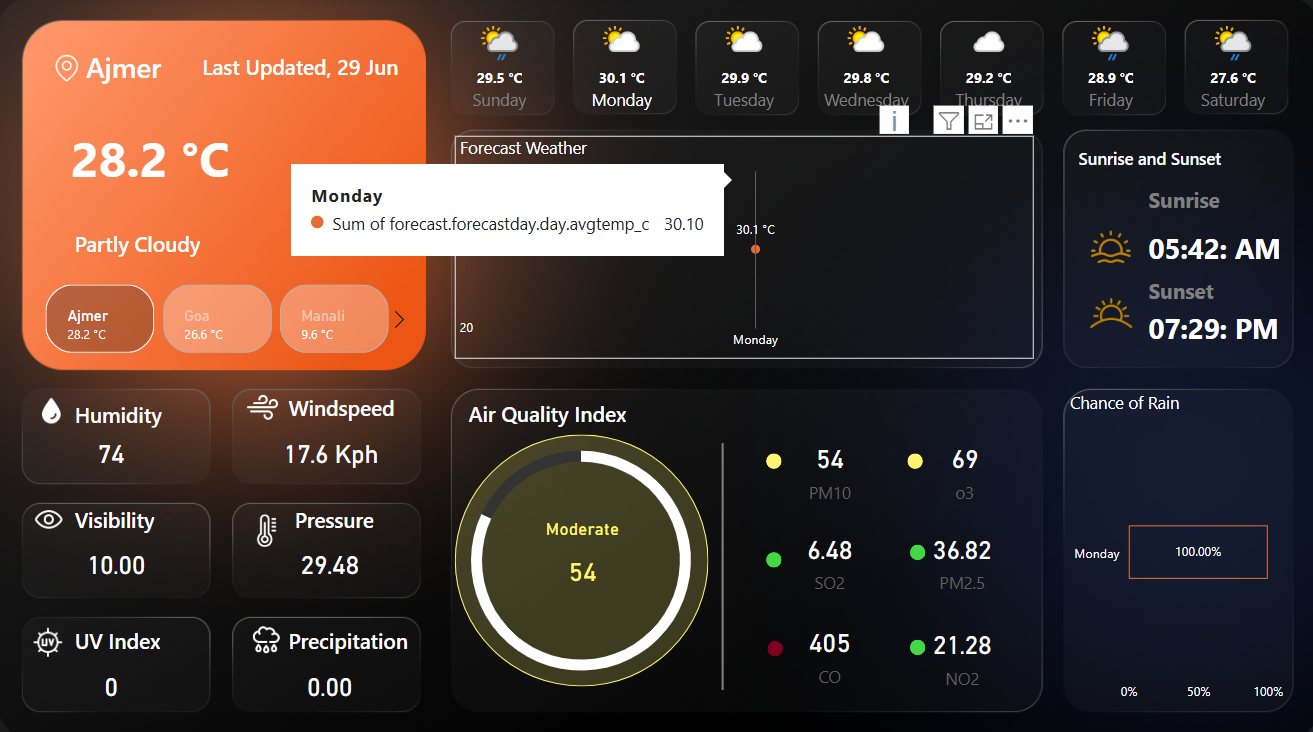

This screenshot's page, from the dashboard's own definition file:
{"tool":"powerbi","page":{"name":"Page 1","canvas":[1280,720],"ordinal":0},"visuals":[{"type":"advancedSlicerVisual","fields":{"Values":["Location.location.name"]},"box":[23.3,273.1,381.5,76.8],"z":0},{"type":"shape","box":[72.8,107.1,164.8,94.8],"z":1000},{"type":"shape","box":[75.6,217,232.2,41.2],"z":2000},{"type":"shape","box":[86.6,41.9,100.5,48.9],"z":3000},{"type":"image","box":[50.8,46.7,35.7,44],"z":4000},{"type":"shape","box":[199,42.5,205.8,48],"z":5000},{"type":"image","box":[24.7,483.9,53.8,40.7],"z":6000},{"type":"shape","box":[75.6,483.9,100.3,40.7],"z":7000},{"type":"image","box":[29.1,380.7,49.4,36.3],"z":8000},{"type":"shape","box":[75.6,380.7,100.3,42.1],"z":9000},{"type":"image","box":[231.1,374.9,50.9,42.1],"z":10000},{"type":"shape","box":[281.9,374.9,123.5,42.1],"z":11000},{"type":"image","box":[232.5,494.1,56.7,40.7],"z":12000},{"type":"shape","box":[287.7,483.9,100.3,40.7],"z":13000},{"type":"image","box":[21.8,603.1,56.7,39.2],"z":14000},{"type":"shape","box":[75.6,600.2,100.3,42.1],"z":15000},{"type":"image","box":[232.5,600.2,55.2,42.1],"z":16000},{"type":"shape","box":[281.9,600.2,123.5,42.1],"z":17000},{"type":"card","fields":{"Values":["Sum(Current.current.humidity)"]},"box":[71.2,417.1,79.9,46.5],"z":18000},{"type":"card","fields":{"Values":["_Measure.Wind_Speed"]},"box":[270.3,417.1,106.1,46.5],"z":19000},{"type":"card","fields":{"Values":["Sum(Current.current.pressure_in)"]},"box":[281.9,524.6,79.9,46.5],"z":20000},{"type":"card","fields":{"Values":["Sum(Current.current.vis_km)"]},"box":[75.6,524.6,79.9,46.5],"z":21000},{"type":"card","fields":{"Values":["Sum(Current.current.uv)"]},"box":[71.2,642.3,79.9,46.5],"z":22000},{"type":"card","fields":{"Values":["Sum(Current.current.precip_in)"]},"box":[281.9,642.3,79.9,46.5],"z":23000},{"type":"advancedSlicerVisual","fields":{"Values":["Forecast_Day.Day_Name"]},"box":[425.8,16,834.2,101.7],"z":24000},{"type":"lineChart","title":"Forecast Weather","fields":{"Y":["Sum(Forecast_Day.forecast.forecastday.day.avgtemp_c)"],"Category":["Forecast_Day.Day_Name"]},"box":[443.3,133.9,558,215.2],"z":25000},{"type":"shape","box":[1044.3,133.9,202.5,43],"z":26000},{"type":"shape","box":[1112.9,219.6,134.5,45.3],"z":27000},{"type":"shape","box":[1112.9,300.5,134.5,37],"z":28000},{"type":"shape","box":[1112.9,177,134.5,35.7],"z":29000},{"type":"shape","box":[1112.9,264.8,134.5,35.7],"z":30000},{"type":"image","box":[1044.3,273.1,63.1,64.5],"z":31000},{"type":"image","box":[1044.3,216.8,63.1,48],"z":32000},{"type":"hundredPercentStackedBarChart","title":"Chance of Rain","fields":{"Y":["_Measure.Left_value_Rain","Sum(Forecast_Day.forecast.forecastday.day.daily_chance_of_rain)"],"Category":["Forecast_Day.Day_Name"]},"box":[1032,380,216.2,309.1],"z":33000},{"type":"shape","box":[456.1,380,217.9,43.9],"z":34000},{"type":"card","fields":{"Values":["Sum(Current.current.air_quality.o3)"]},"box":[881.7,417.2,106.4,77.7],"z":35000},{"type":"card","fields":{"Values":["Sum(Current.current.air_quality.pm2_5)"]},"box":[880,506.7,106.4,74.3],"z":36000},{"type":"card","fields":{"Values":["Sum(Current.current.air_quality.no2)"]},"box":[880,603,106.4,65.9],"z":37000},{"type":"card","fields":{"Values":["Sum(Current.current.air_quality.pm10)"]},"box":[751.7,417.2,106.4,77.7],"z":38000},{"type":"card","fields":{"Values":["Sum(Current.current.air_quality.so2)"]},"box":[751.7,506.7,106.4,74.3],"z":39000},{"type":"card","fields":{"Values":["Sum(Current.current.air_quality.co)"]},"box":[751.7,599.6,106.4,69.3],"z":40000},{"type":"shape","box":[743.2,440.9,15.2,15.2],"z":41000},{"type":"shape","box":[744.9,621.6,15.2,15.2],"z":42000},{"type":"shape","box":[743.2,535.4,15.2,15.2],"z":43000},{"type":"shape","box":[880,440.9,15.2,15.2],"z":44000},{"type":"shape","box":[881.7,528.7,15.2,15.2],"z":45000},{"type":"shape","box":[881.7,619.9,15.2,15.2],"z":46000},{"type":"shape","box":[660.4,430.7,82.8,238.2],"z":47000},{"type":"card","fields":{"Values":["Sum(Current.current.air_quality.pm10)"]},"box":[518.6,503.4,94.6,82.8],"z":48000},{"type":"shape","box":[442.5,422.3,244.9,243.2],"z":49000},{"type":"donutChart","fields":{"Y":["_Measure.Left_Value_PM10","Sum(Current.current.air_quality.pm10)"]},"box":[410.5,407.1,309.1,275.3],"z":50000}]}

Visuals, with their boxes in screenshot pixels (x1, y1, x2, y2), scaled from the page's 1280x720 canvas onto the 1313x732 screenshot:
advancedSlicerVisual - Location.location.name: [left=24, top=278, right=415, bottom=356]
shape: [left=75, top=109, right=244, bottom=205]
shape: [left=78, top=221, right=316, bottom=263]
shape: [left=89, top=43, right=192, bottom=92]
image: [left=52, top=47, right=89, bottom=92]
shape: [left=204, top=43, right=415, bottom=92]
image: [left=25, top=492, right=81, bottom=533]
shape: [left=78, top=492, right=180, bottom=533]
image: [left=30, top=387, right=81, bottom=424]
shape: [left=78, top=387, right=180, bottom=430]
image: [left=237, top=381, right=289, bottom=424]
shape: [left=289, top=381, right=416, bottom=424]
image: [left=238, top=502, right=297, bottom=544]
shape: [left=295, top=492, right=398, bottom=533]
image: [left=22, top=613, right=81, bottom=653]
shape: [left=78, top=610, right=180, bottom=653]
image: [left=238, top=610, right=295, bottom=653]
shape: [left=289, top=610, right=416, bottom=653]
card - Sum(Current.current.humidity): [left=73, top=424, right=155, bottom=471]
card - _Measure.Wind_Speed: [left=277, top=424, right=386, bottom=471]
card - Sum(Current.current.pressure_in): [left=289, top=533, right=371, bottom=581]
card - Sum(Current.current.vis_km): [left=78, top=533, right=160, bottom=581]
card - Sum(Current.current.uv): [left=73, top=653, right=155, bottom=700]
card - Sum(Current.current.precip_in): [left=289, top=653, right=371, bottom=700]
advancedSlicerVisual - Forecast_Day.Day_Name: [left=437, top=16, right=1292, bottom=120]
"Forecast Weather" lineChart: [left=455, top=136, right=1027, bottom=355]
shape: [left=1071, top=136, right=1279, bottom=180]
shape: [left=1142, top=223, right=1280, bottom=269]
shape: [left=1142, top=306, right=1280, bottom=343]
shape: [left=1142, top=180, right=1280, bottom=216]
shape: [left=1142, top=269, right=1280, bottom=306]
image: [left=1071, top=278, right=1136, bottom=343]
image: [left=1071, top=220, right=1136, bottom=269]
"Chance of Rain" hundredPercentStackedBarChart: [left=1059, top=386, right=1280, bottom=701]
shape: [left=468, top=386, right=691, bottom=431]
card - Sum(Current.current.air_quality.o3): [left=904, top=424, right=1014, bottom=503]
card - Sum(Current.current.air_quality.pm2_5): [left=903, top=515, right=1012, bottom=591]
card - Sum(Current.current.air_quality.no2): [left=903, top=613, right=1012, bottom=680]
card - Sum(Current.current.air_quality.pm10): [left=771, top=424, right=880, bottom=503]
card - Sum(Current.current.air_quality.so2): [left=771, top=515, right=880, bottom=591]
card - Sum(Current.current.air_quality.co): [left=771, top=610, right=880, bottom=680]
shape: [left=762, top=448, right=778, bottom=464]
shape: [left=764, top=632, right=780, bottom=647]
shape: [left=762, top=544, right=778, bottom=560]
shape: [left=903, top=448, right=918, bottom=464]
shape: [left=904, top=538, right=920, bottom=553]
shape: [left=904, top=630, right=920, bottom=646]
shape: [left=677, top=438, right=762, bottom=680]
card - Sum(Current.current.air_quality.pm10): [left=532, top=512, right=629, bottom=596]
shape: [left=454, top=429, right=705, bottom=677]
donutChart - _Measure.Left_Value_PM10 x Sum(Current.current.air_quality.pm10): [left=421, top=414, right=738, bottom=694]
